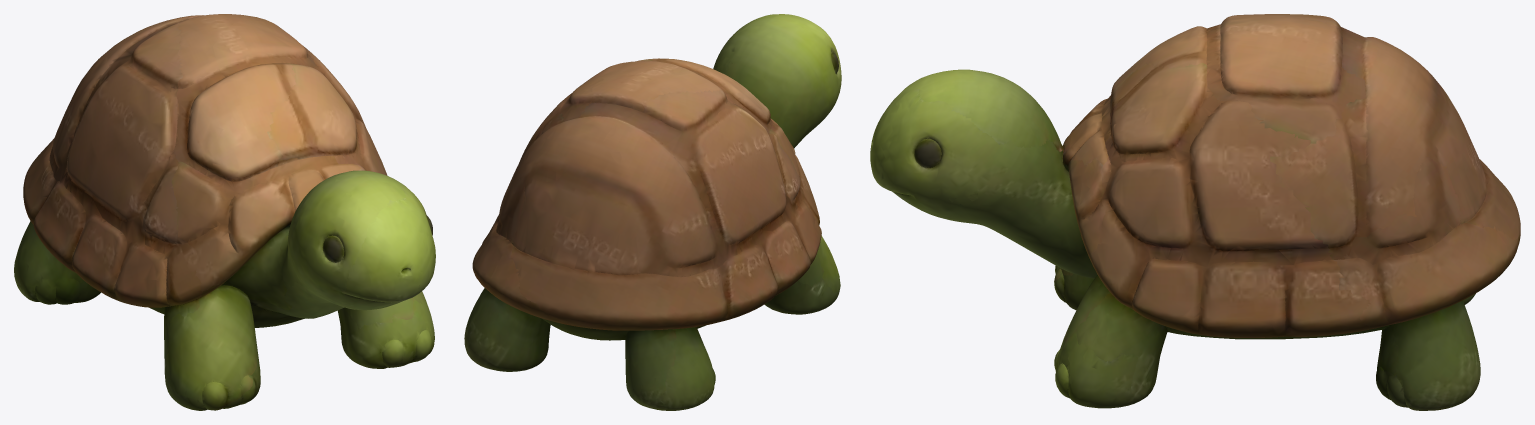
File: turtle_pbr.glb
The picture shows the model from 3 angles, left to right: view 1: azimuth 30°, elevation 25°; view 2: azimuth 150°, elevation 25°; view 3: azimuth 270°, elevation 25°; orthographic projection. The views are drawn at different scales.
Visible parts, largest first — view 1: model.018; view 2: model.018; view 3: model.018.
Part boxes in pixels (bbox=[...]): model.018: bbox=[14, 14, 435, 410]; model.018: bbox=[464, 14, 841, 410]; model.018: bbox=[870, 14, 1520, 410].
Size of the model in its own units: 1.08 by 0.9961 by 1.84.
Materials: 1 (1 with a texture image).
